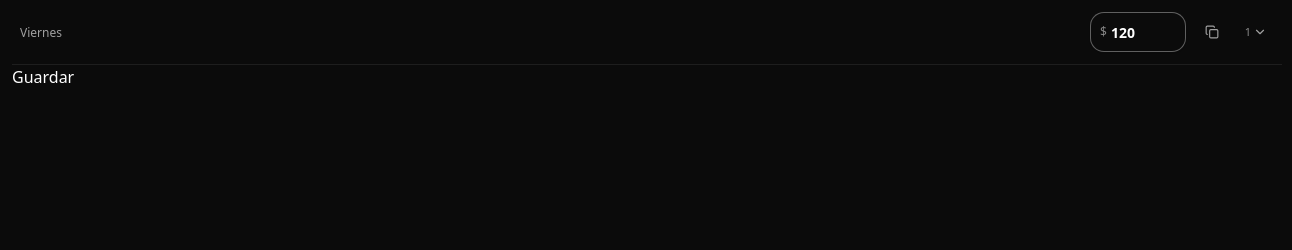
DayRow — expanding, adding, deleting a differentiated row › adding a row keeps the day expanded and shows the new row
Click the button named "mostrar franjas de viernes (1)" at (1256, 32), box [1238, 14, 1274, 50]
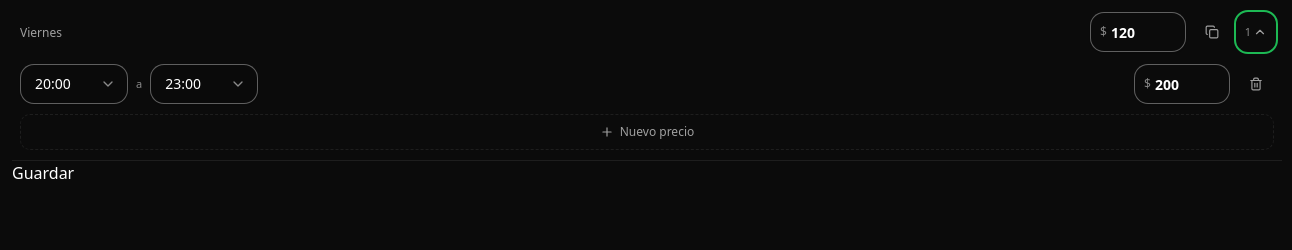
Click the button "Nuevo precio" at (647, 132), box [20, 114, 1274, 150]
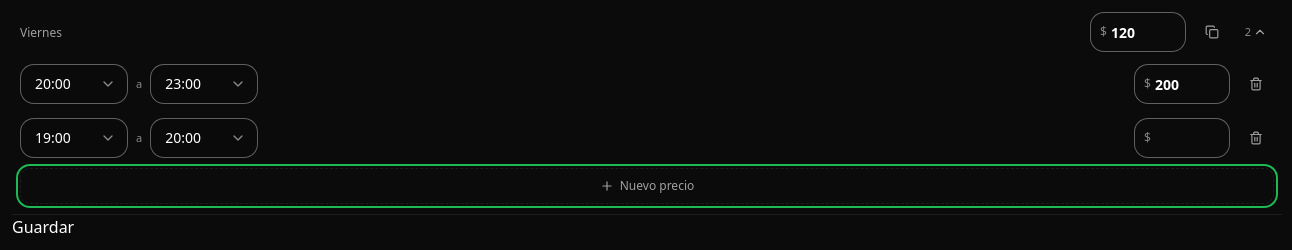
Result: the field named "viernes, franja 1: precio" is shown at [1134, 64, 1230, 104]
Result: the button named "ocultar franjas de viernes (2)" is expanded at [1238, 14, 1274, 50]
Result: the field named "viernes, franja 2: precio" is shown at [1134, 118, 1230, 158]
